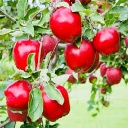apple: (5, 81, 34, 108)
